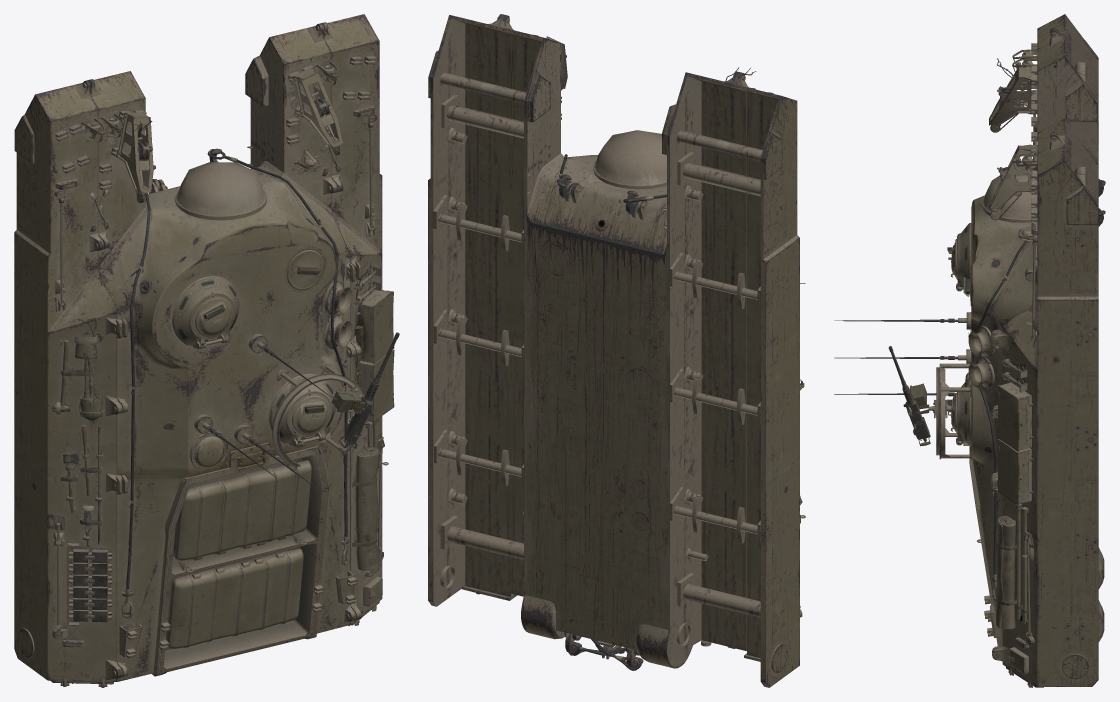
Rendered from Hull.glb.
3 renders of one model, left to right at view 1: azimuth 30°, elevation 25°; view 2: azimuth 150°, elevation 25°; view 3: azimuth 270°, elevation 25°, orthographic. The views are drawn at different scales.
Visible parts, largest first — view 1: set_0_group_0; view 2: set_0_group_0; view 3: set_0_group_0.
Part boxes in pixels (box(x1,y1,x2,y2)): set_0_group_0: box(14, 14, 399, 687); set_0_group_0: box(428, 14, 805, 687); set_0_group_0: box(834, 14, 1105, 687).
Size of the model in its own units: 4.56 by 7.77 by 3.48.
1 material, 1 textured.
